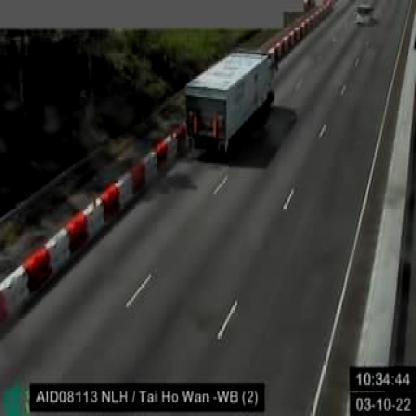Truck: (187, 47, 276, 152)
